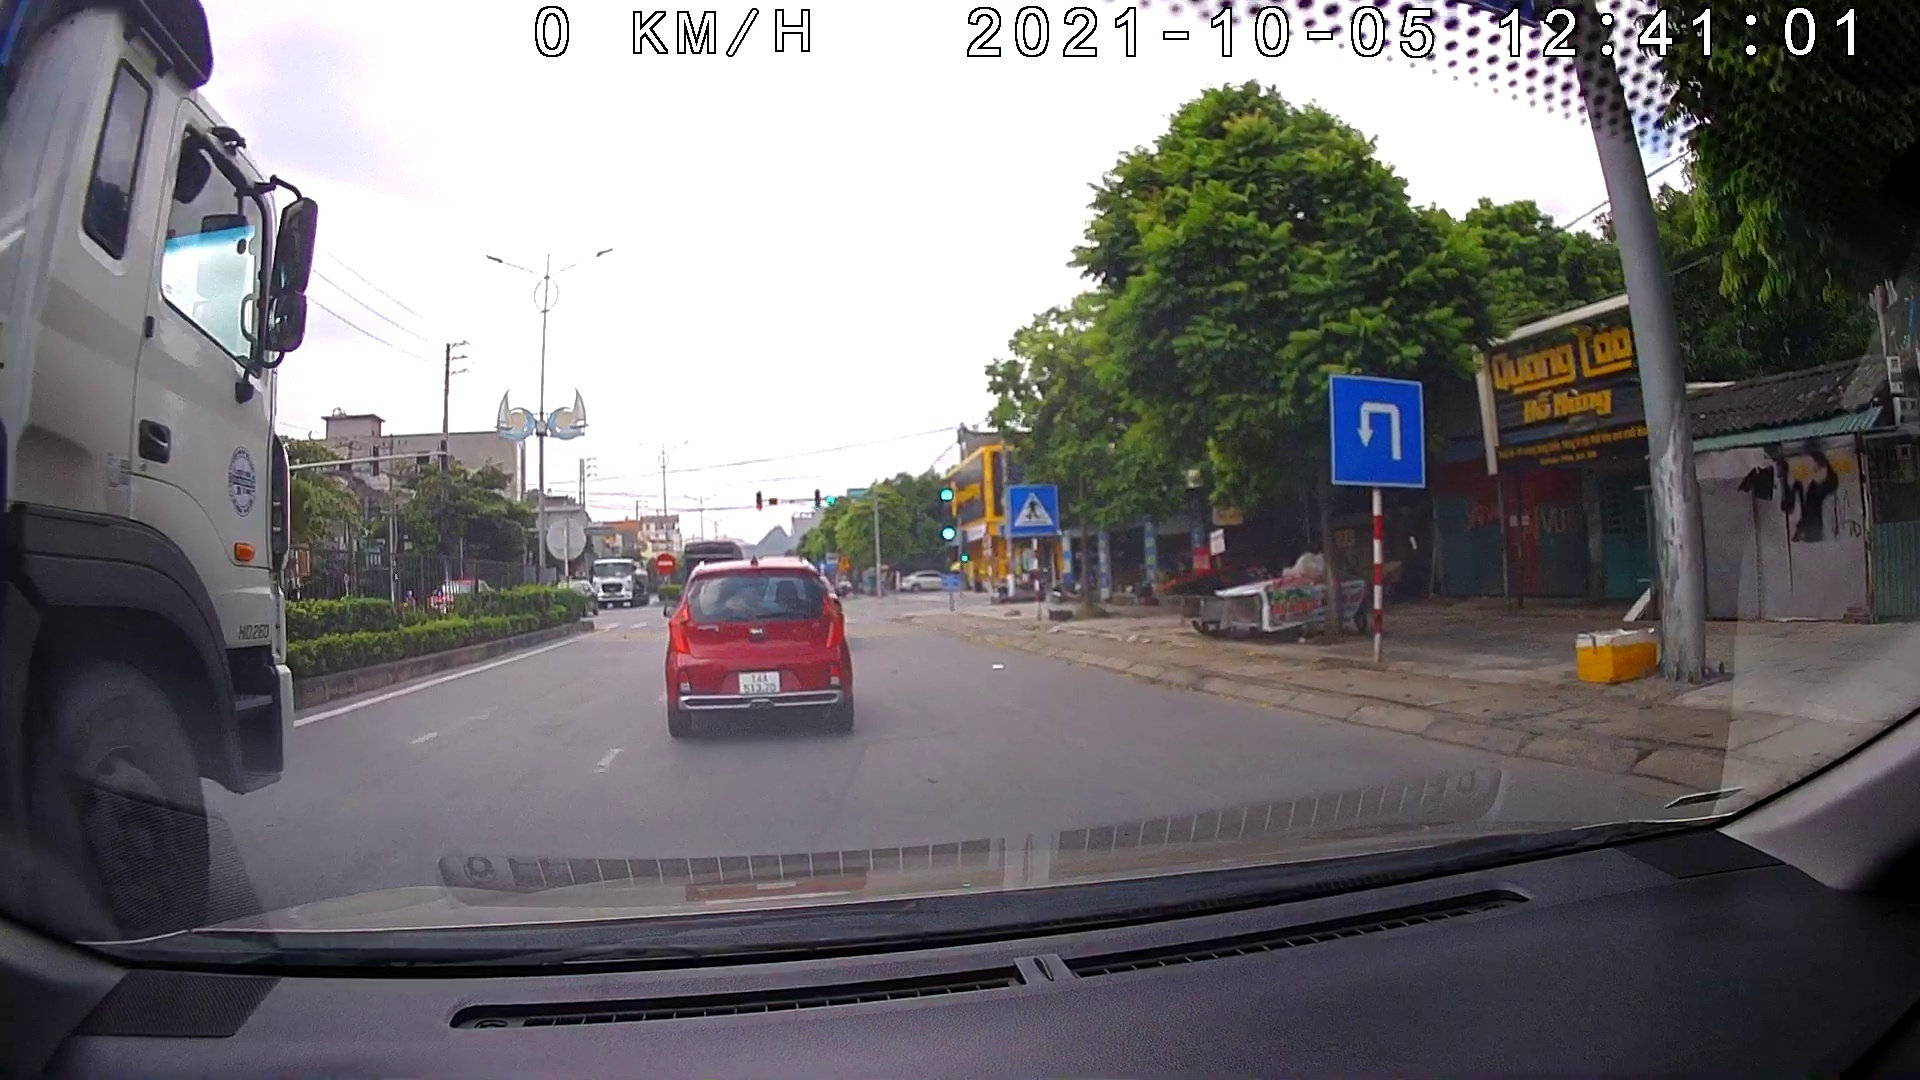Bien khac: (1319, 371, 1431, 491)
Cam di nguoc chieu: (649, 549, 676, 574)
Nguoi di bo: (1001, 480, 1064, 538)
